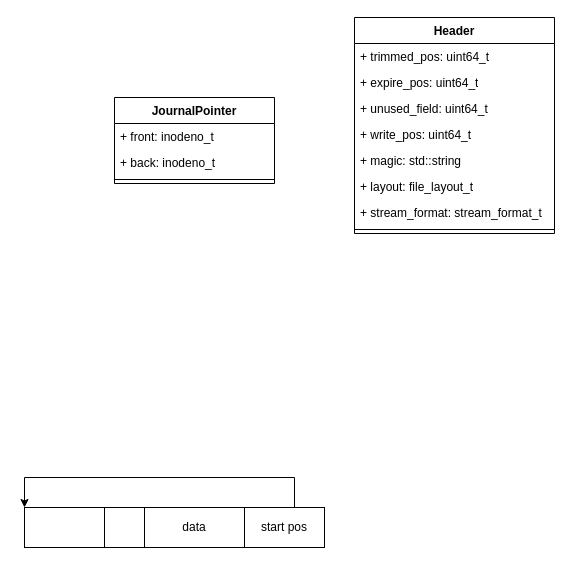
Some shapes in this 572 by 565 pixel diagram are drawn without their labels. The centre of each missing label's shape, as x and y in pixels:
"entry size" belongs at point 124,527.
"sentinel" belongs at point 64,527.
